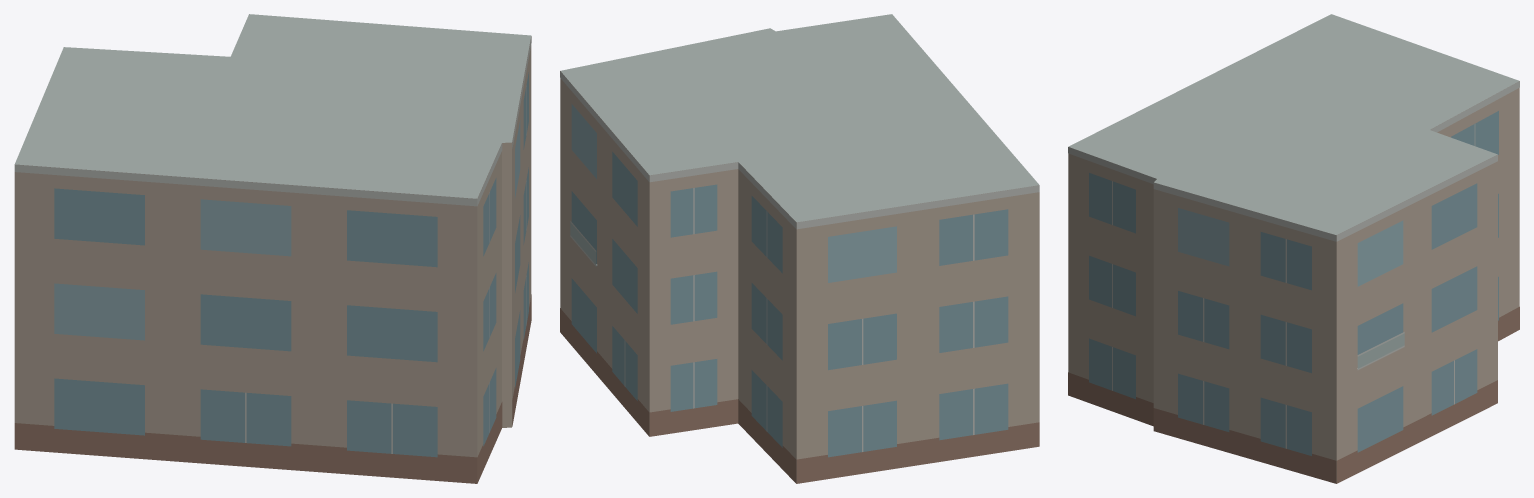
File: survey-upis-32672711.glb
The picture shows the model from 3 angles, left to right: view 1: azimuth 30°, elevation 25°; view 2: azimuth 150°, elevation 25°; view 3: azimuth 270°, elevation 25°; orthographic projection. The views are drawn at different scales.
Parts seen in each view (by area): view 1: survey-upis-32672711.tmp; view 2: survey-upis-32672711.tmp; view 3: survey-upis-32672711.tmp.
Boxes of the visible parts, left/top/right/bottom form: survey-upis-32672711.tmp: left=14, top=14, right=531, bottom=483; survey-upis-32672711.tmp: left=560, top=14, right=1039, bottom=483; survey-upis-32672711.tmp: left=1068, top=14, right=1519, bottom=483.
Bounding box in the file's own units: 17.47 × 9.15 × 15.07.
